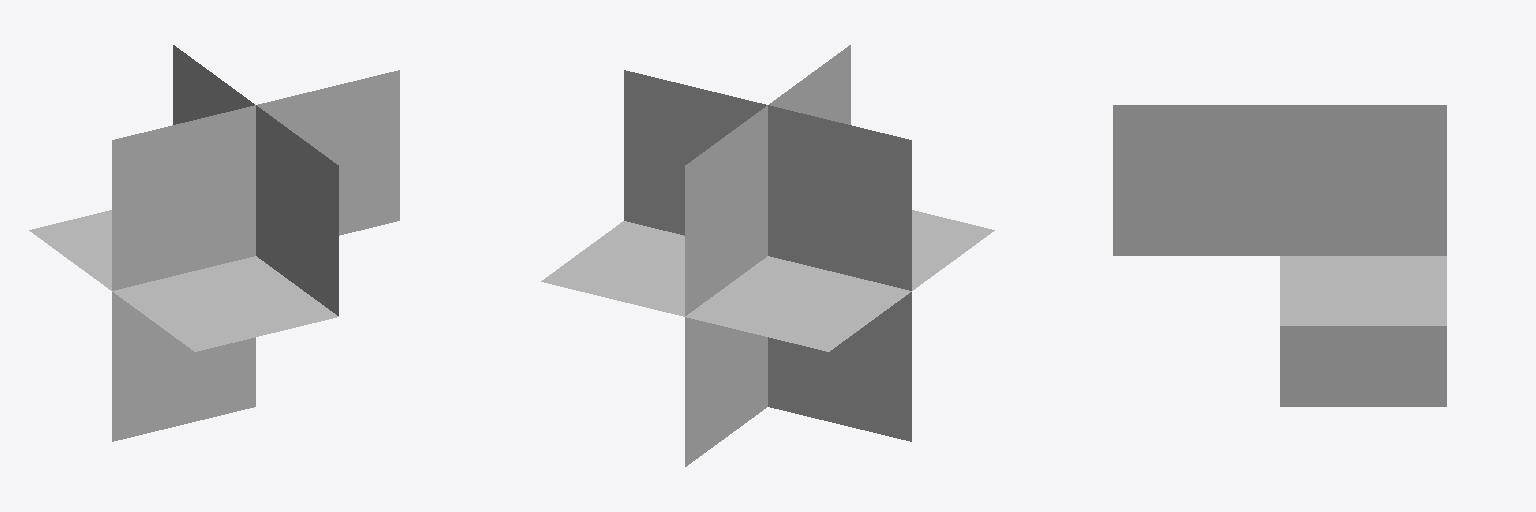
The picture shows the model from 3 angles: view 1: azimuth 30°, elevation 25°; view 2: azimuth 150°, elevation 25°; view 3: azimuth 270°, elevation 25°; orthographic projection.
Visible parts, largest first — view 1: 0101_0010_立方体.090; view 2: 0101_0010_立方体.090; view 3: 0101_0010_立方体.090.
Boxes of the visible parts, box(x1,y1,x2,y2) form: 0101_0010_立方体.090: box(29, 45, 399, 441); 0101_0010_立方体.090: box(541, 45, 994, 466); 0101_0010_立方体.090: box(1113, 105, 1446, 406).
Bounding box in the file's own units: 1 × 1 × 1.